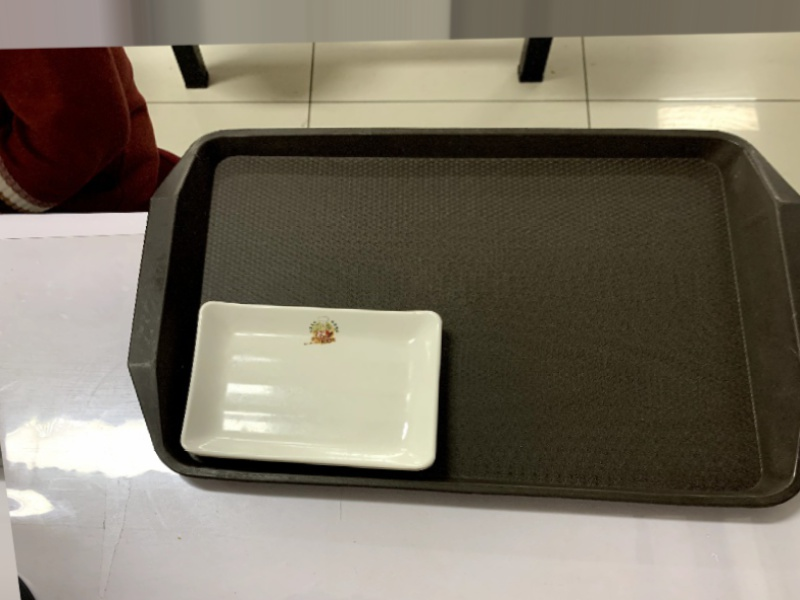dish4: (167, 293, 456, 480)
